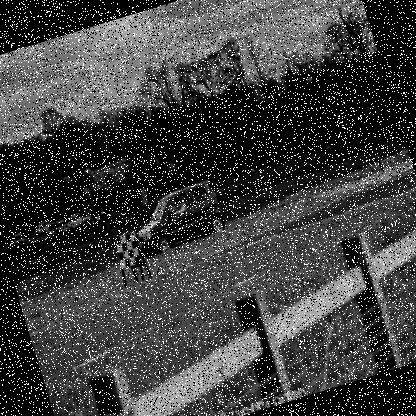Car: (127, 176, 228, 263), (66, 209, 91, 230), (42, 216, 64, 236), (29, 216, 48, 236), (10, 228, 28, 242)
